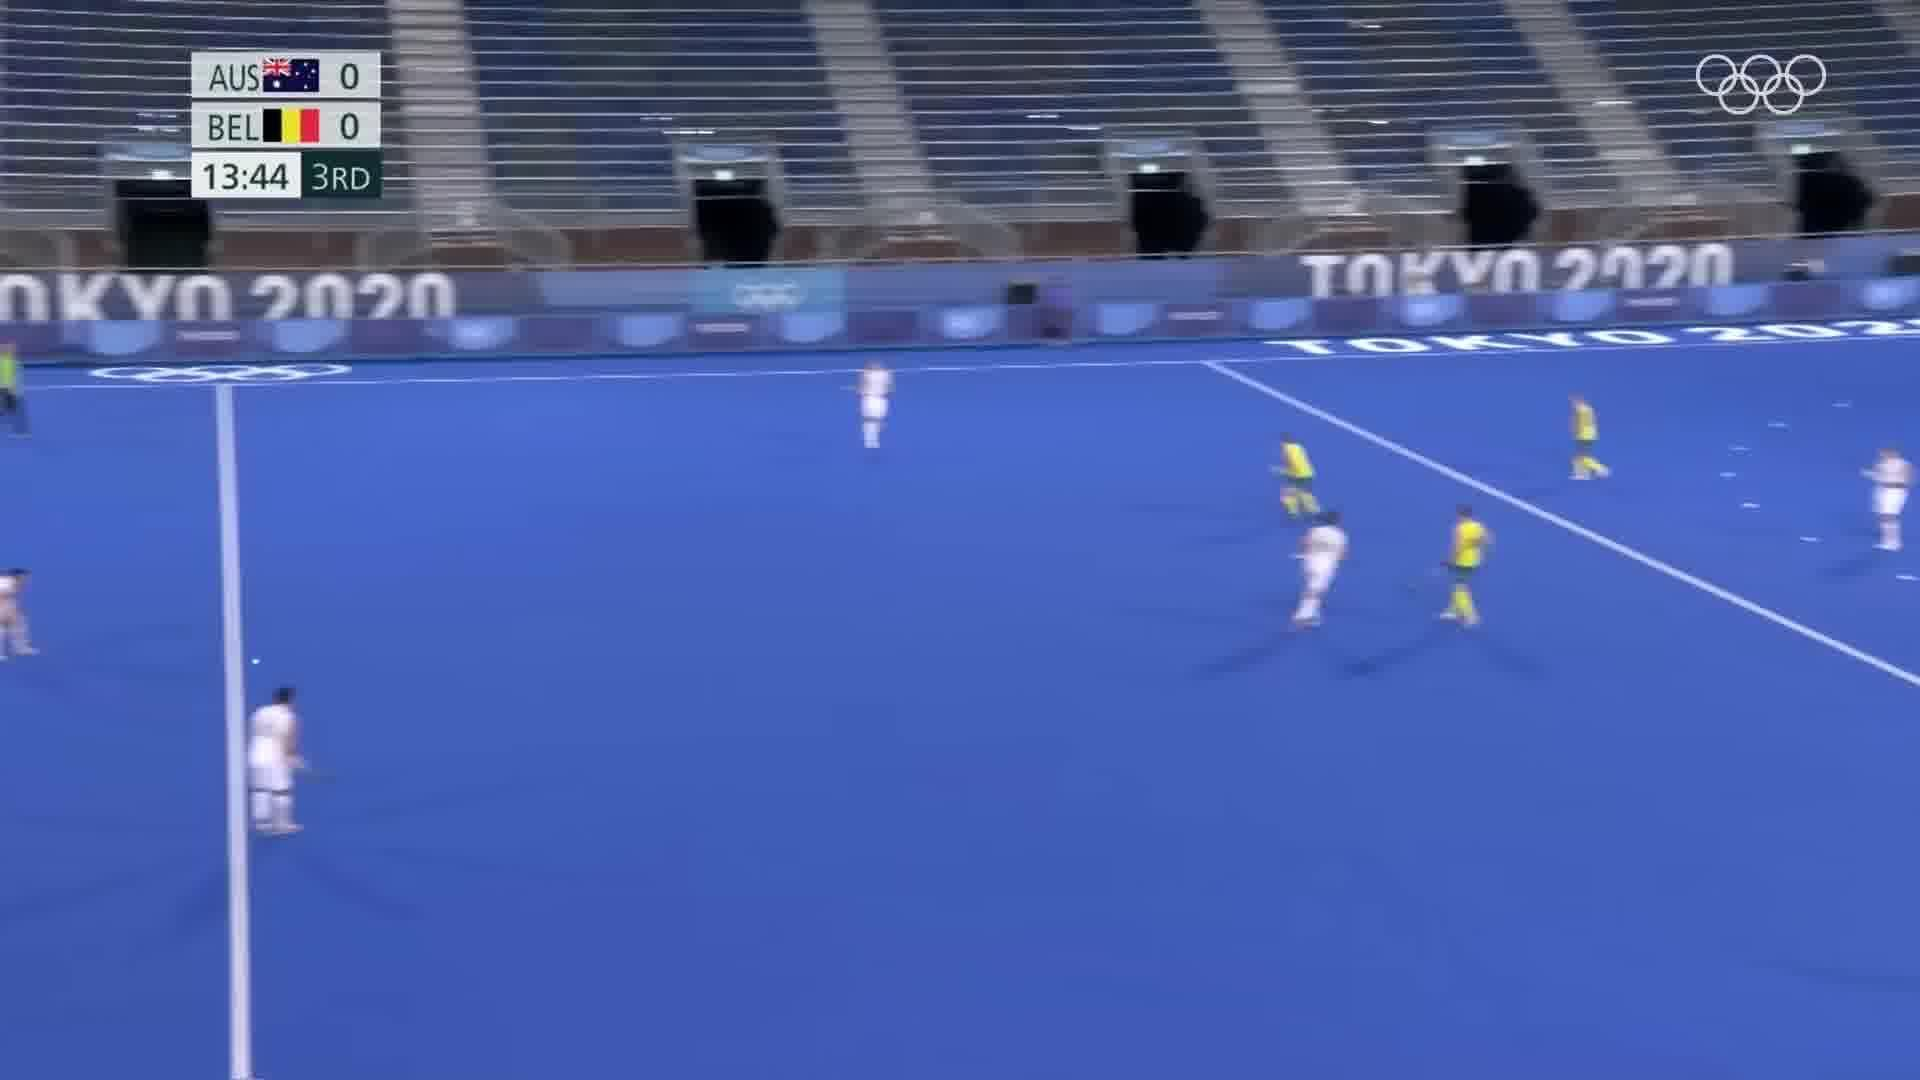ball: (247, 651, 266, 670)
